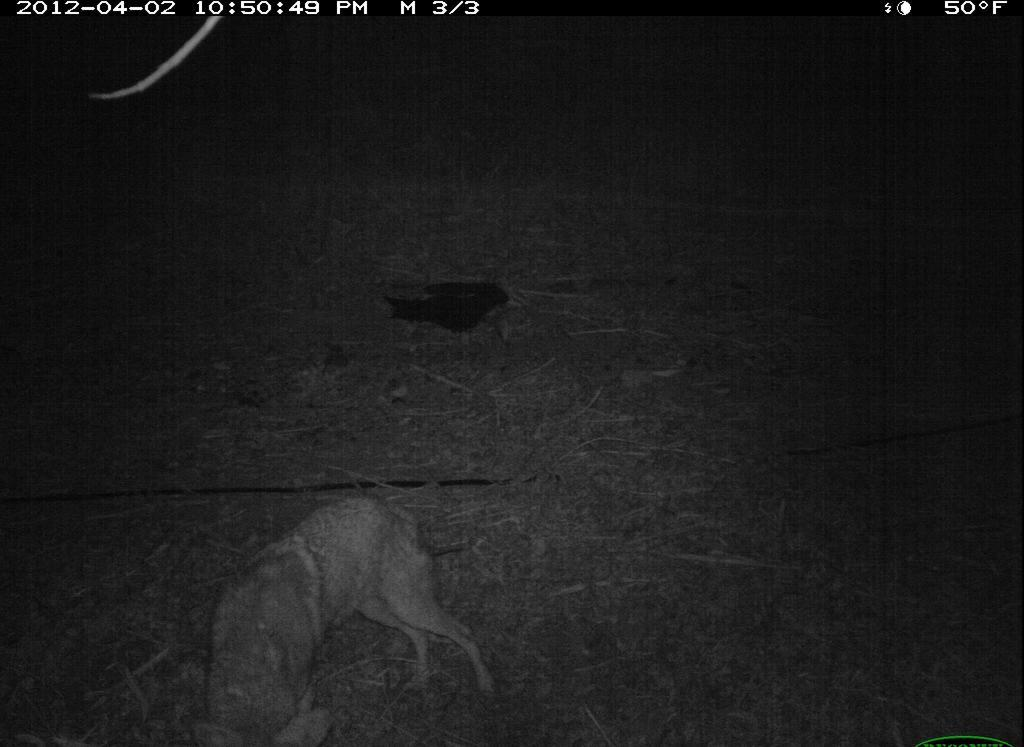coyote: (152, 482, 498, 747)
